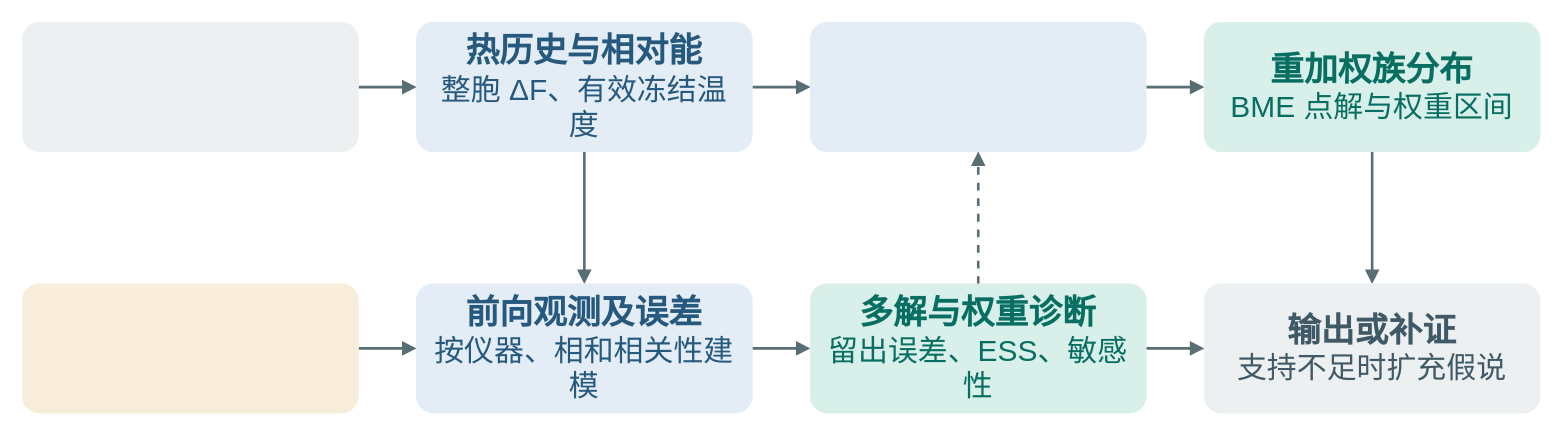
This 1563x435 diagram has some shape labels left out. The shapes that lost their labels are listed below. From the top down, each one's box as (x1, y1, x2, y2) in pixels, then its label:
(21, 21, 358, 151): 结构假说 整数计量、相与局域约 束
(809, 21, 1146, 151): 归一化先验 简并度、提议概率、支 持集
(21, 283, 358, 413): 结构表征 XRD、NMR、中子、 总散射
